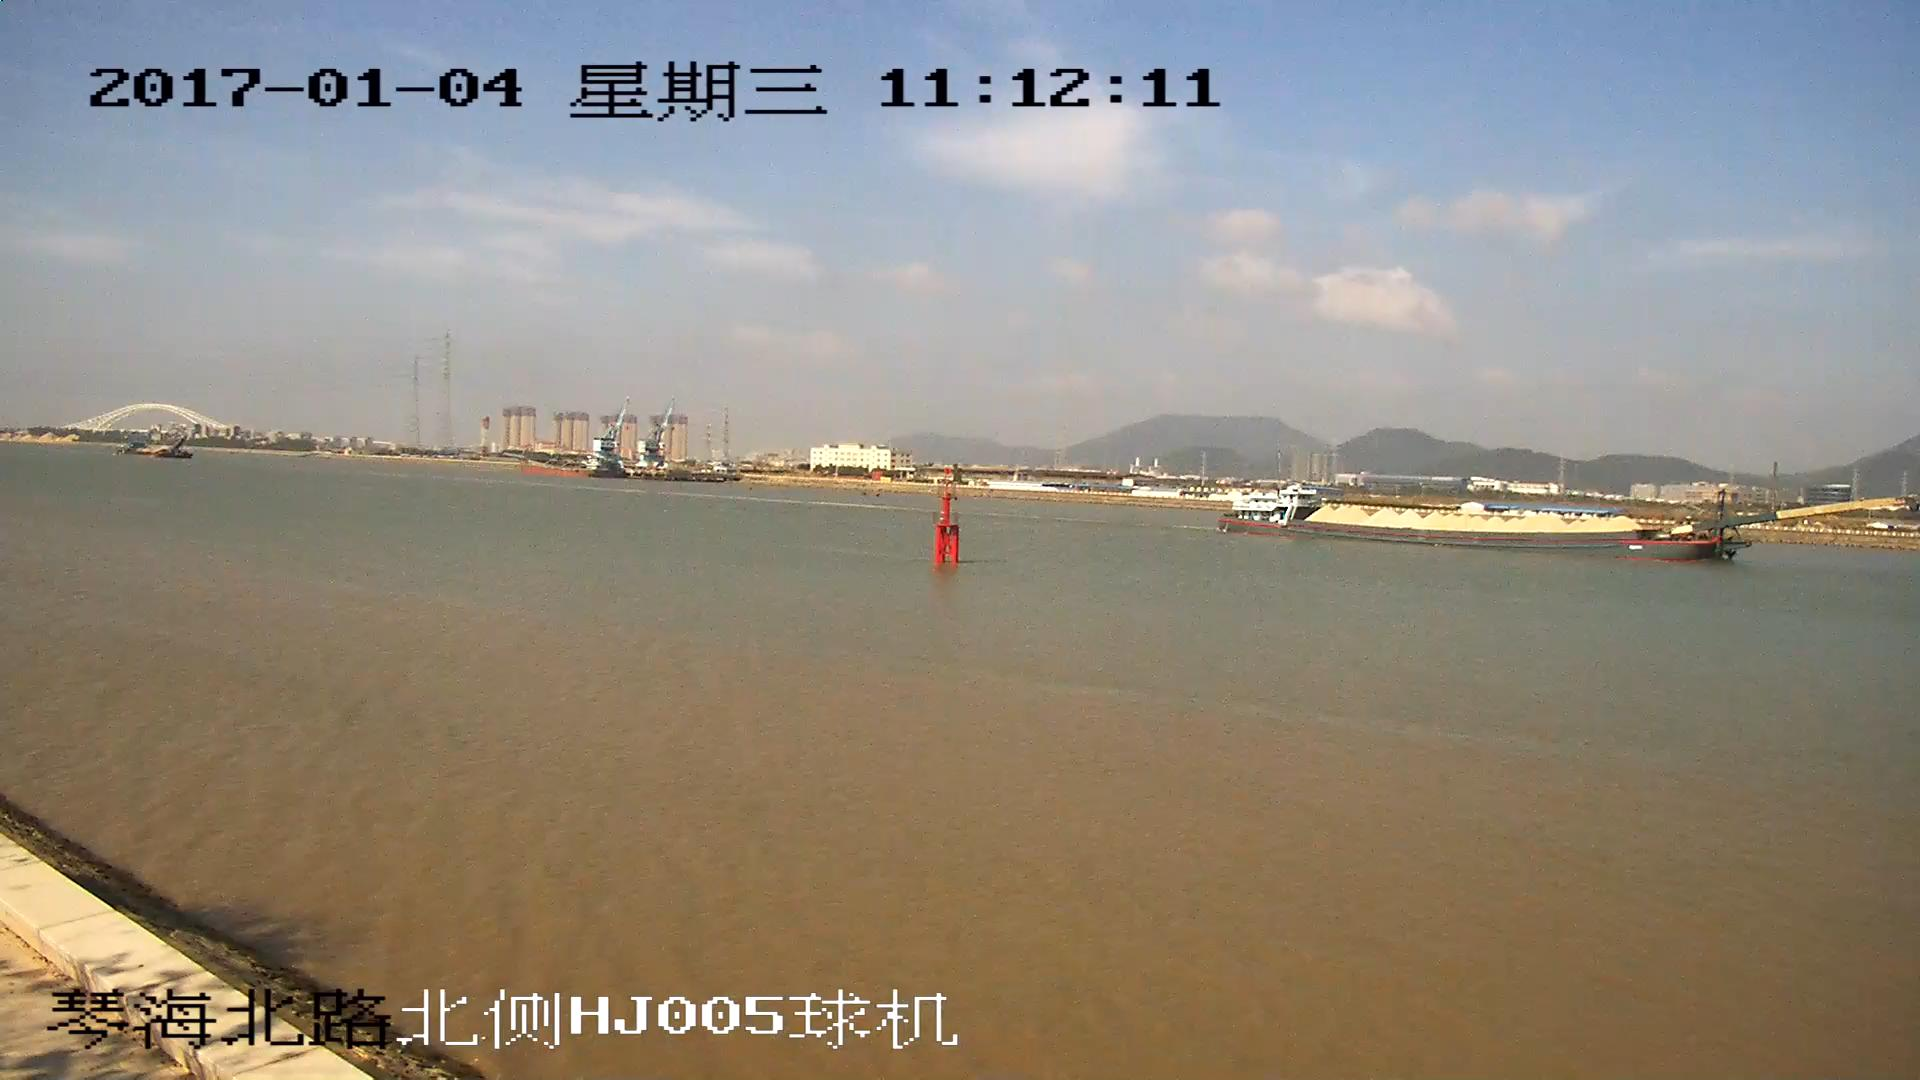ore carrier: (1225, 483, 1902, 565)
